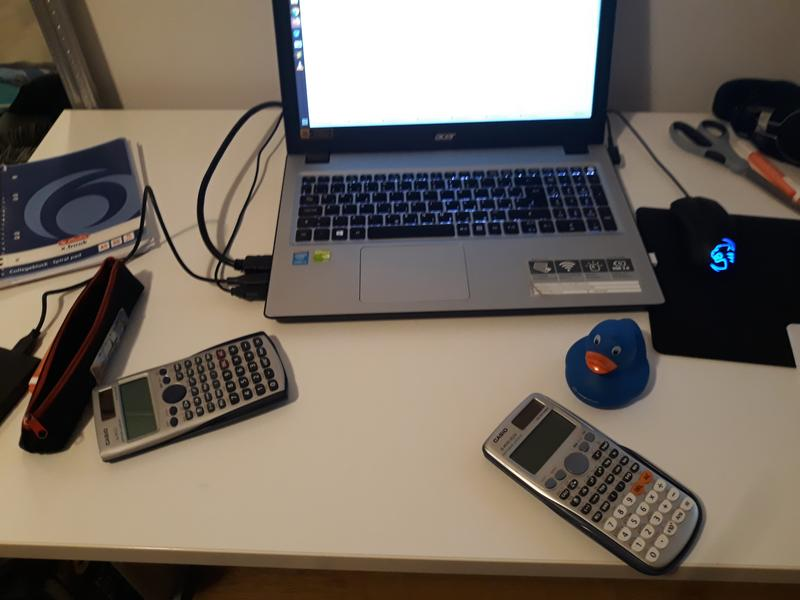CASIO_fx_991ES: (86, 319, 292, 462)
CASIO_fx_991ES_PLUS: (463, 377, 725, 575)
plava_patkica: (557, 299, 667, 416)
